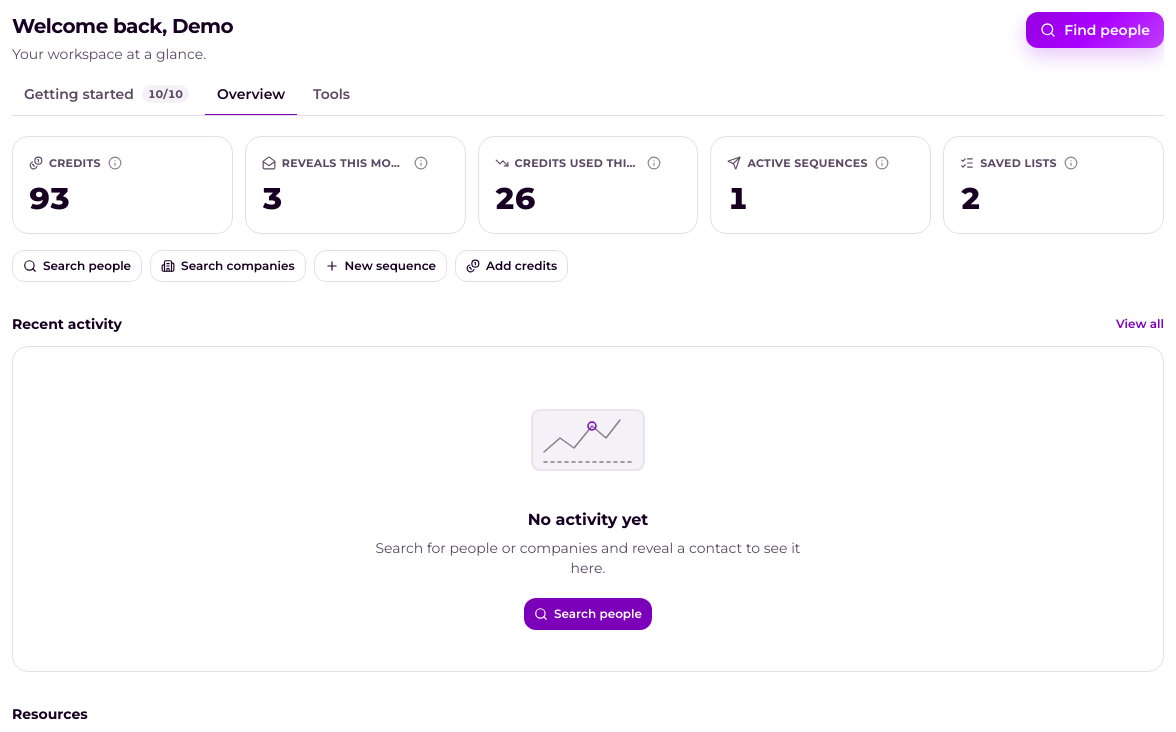
Test: Dashboard (Home) › defaults to Overview once the checklist is complete
Expected: the text "Reveals this month" is shown, [282, 155, 408, 171]
Note: Still reachable from the tab.
Click the button "Getting started 10/10": (106, 98) [12, 80, 201, 116]
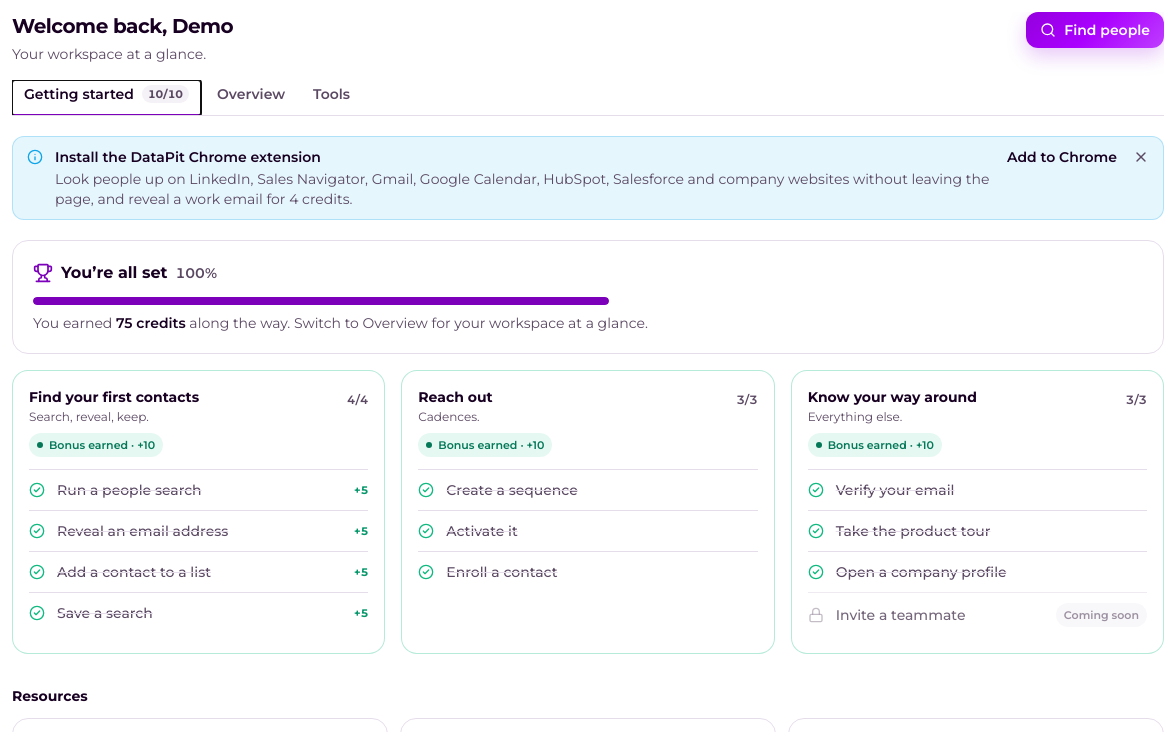
Expected: the heading "You’re all set" is shown, [61, 261, 168, 285]
